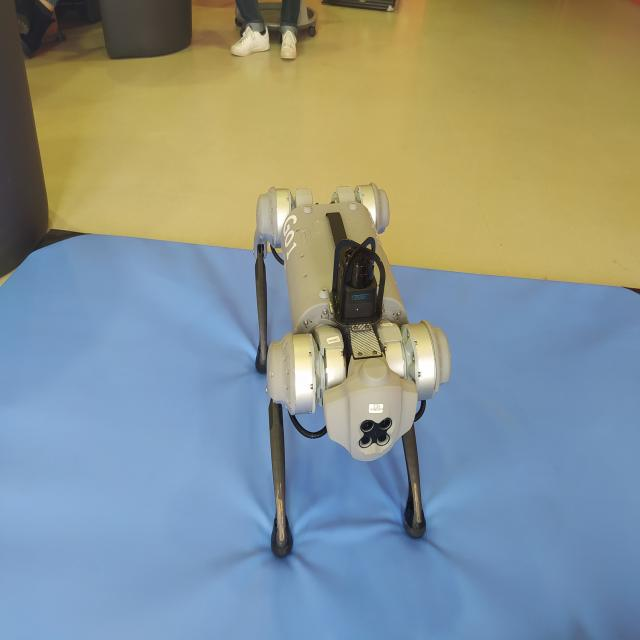unitree-go1-robot: (252, 183, 454, 564)
